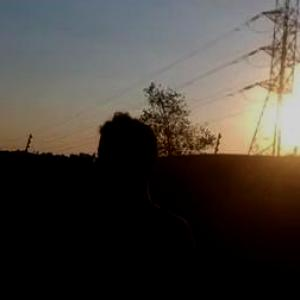follow: (50, 108, 205, 299)
